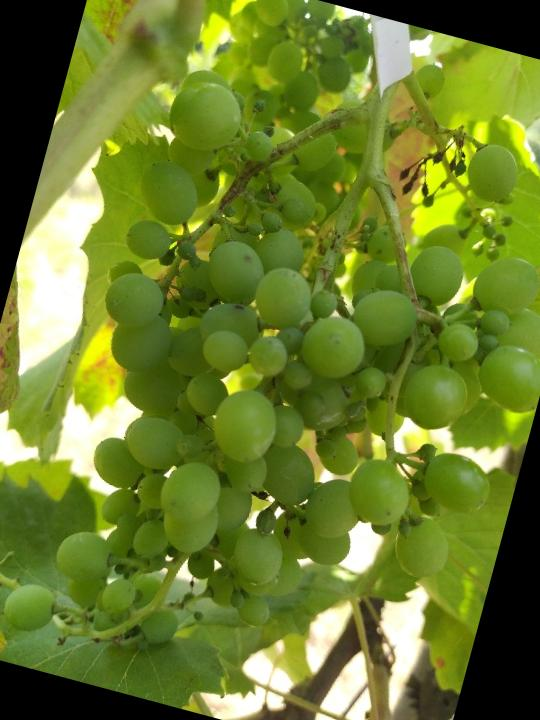grape: (0, 50, 540, 720)
